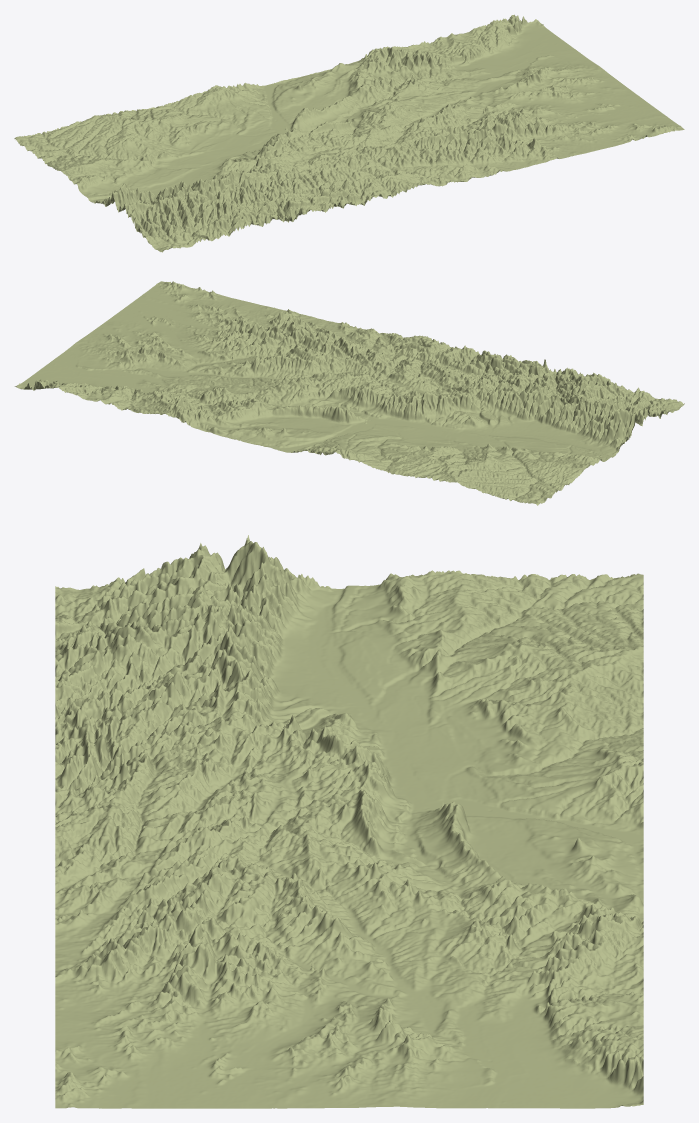
The model's file is terrain.glb.
The picture shows the model from 3 angles, top to bottom: view 1: azimuth 30°, elevation 25°; view 2: azimuth 150°, elevation 25°; view 3: azimuth 270°, elevation 25°; orthographic projection. The views are drawn at different scales.
Visible parts, largest first — view 1: Measured mountain terrain.002; view 2: Measured mountain terrain.002; view 3: Measured mountain terrain.002.
Boxes of the visible parts, box(x1,y1,x2,y2) form: Measured mountain terrain.002: box(14, 14, 684, 252); Measured mountain terrain.002: box(14, 281, 684, 505); Measured mountain terrain.002: box(55, 535, 643, 1108).
Size of the model in its own units: 570 by 35.48 by 278.
